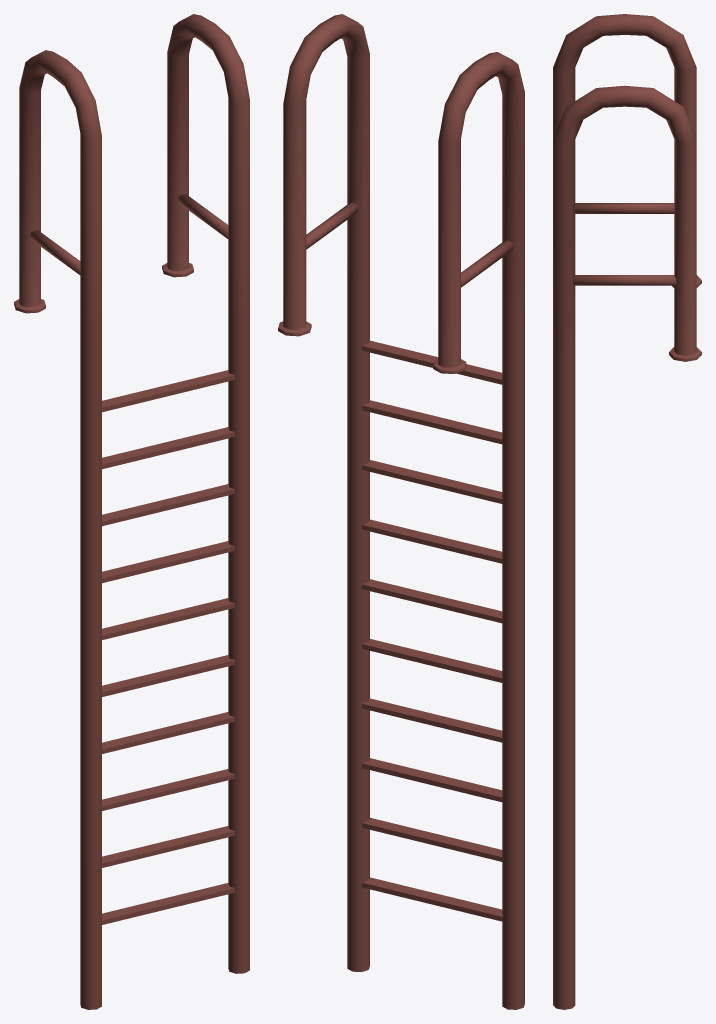
Rendered from PoolStairs.fbx.
The picture shows the model from 3 angles, left to right: view 1: azimuth 30°, elevation 25°; view 2: azimuth 150°, elevation 25°; view 3: azimuth 270°, elevation 25°; orthographic projection. The views are drawn at different scales.
Parts seen in each view (by area): view 1: PoolStairs; view 2: PoolStairs; view 3: PoolStairs.
Boxes of the visible parts, left/top/right/bottom form: PoolStairs: left=14, top=14, right=249, bottom=1009; PoolStairs: left=278, top=14, right=524, bottom=1009; PoolStairs: left=553, top=14, right=701, bottom=1009.
Bounding box in the file's own units: 85.04 × 425 × 62.41.
